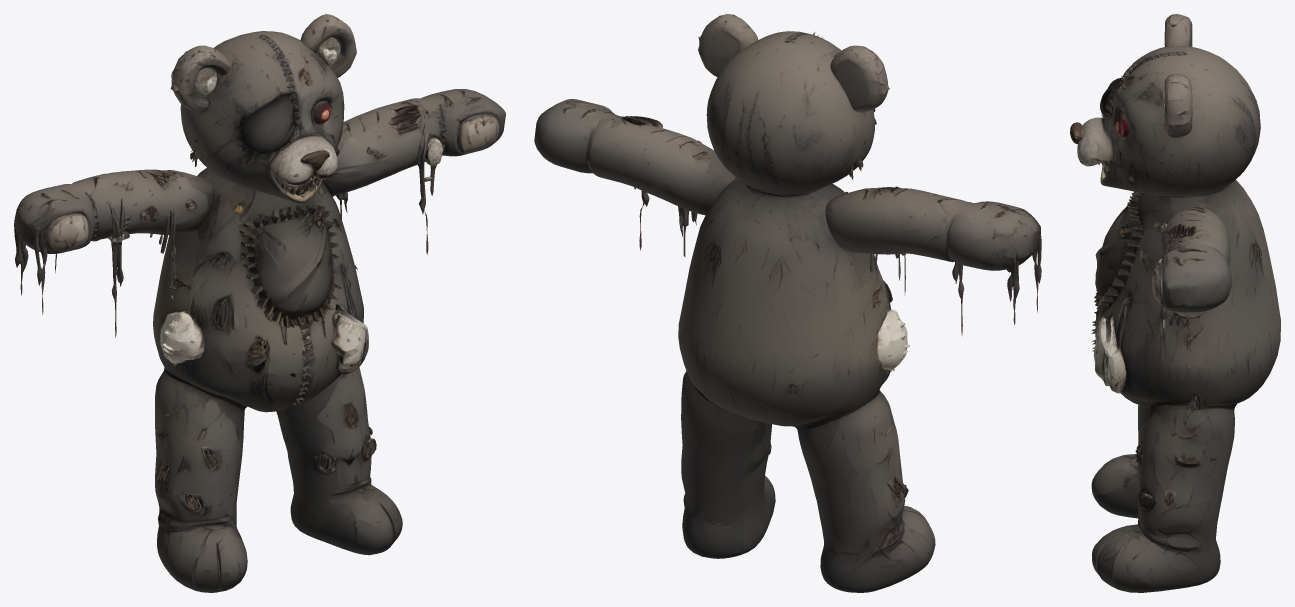
File: base_basic_pbr.fbx
3 views of the same model, side by side, from view 1: azimuth 30°, elevation 25°; view 2: azimuth 150°, elevation 25°; view 3: azimuth 270°, elevation 25° (orthographic). The views are drawn at different scales.
Visible parts, largest first — view 1: model; view 2: model; view 3: model.
Part boxes in pixels (box(x1,y1,x2,y2)): model: box(14, 14, 505, 592); model: box(534, 14, 1041, 592); model: box(1070, 14, 1280, 592).
Bounding box in the file's own units: 173 × 179 × 68.16.
Materials: 1 (1 with a texture image).
